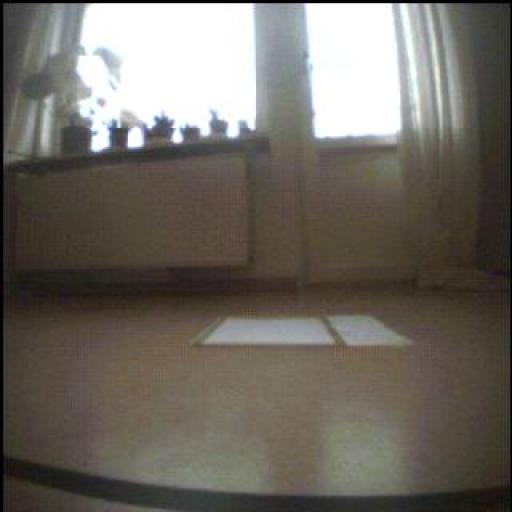Pad: (192, 318, 421, 344)
